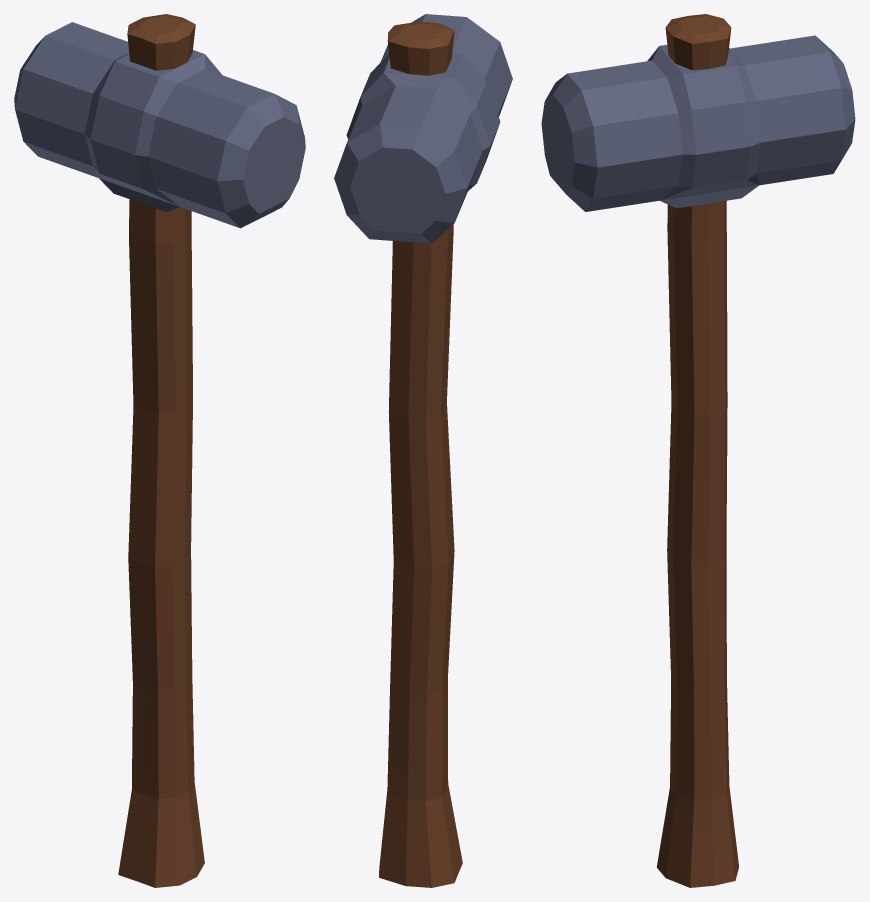
Rendered from hammer_iron.glb.
3 renders of one model, left to right at view 1: azimuth 30°, elevation 25°; view 2: azimuth 150°, elevation 25°; view 3: azimuth 270°, elevation 25°, orthographic.
Visible parts, largest first — view 1: HammerV12; view 2: HammerV12; view 3: HammerV12.
Boxes of the visible parts, x1=… form: HammerV12: x1=14, y1=14, x2=305, y2=887; HammerV12: x1=334, y1=14, x2=512, y2=887; HammerV12: x1=541, y1=14, x2=855, y2=887.
Size of the model in its own units: 0.1539 by 0.6564 by 0.2213.
2 materials, 2 textured.
